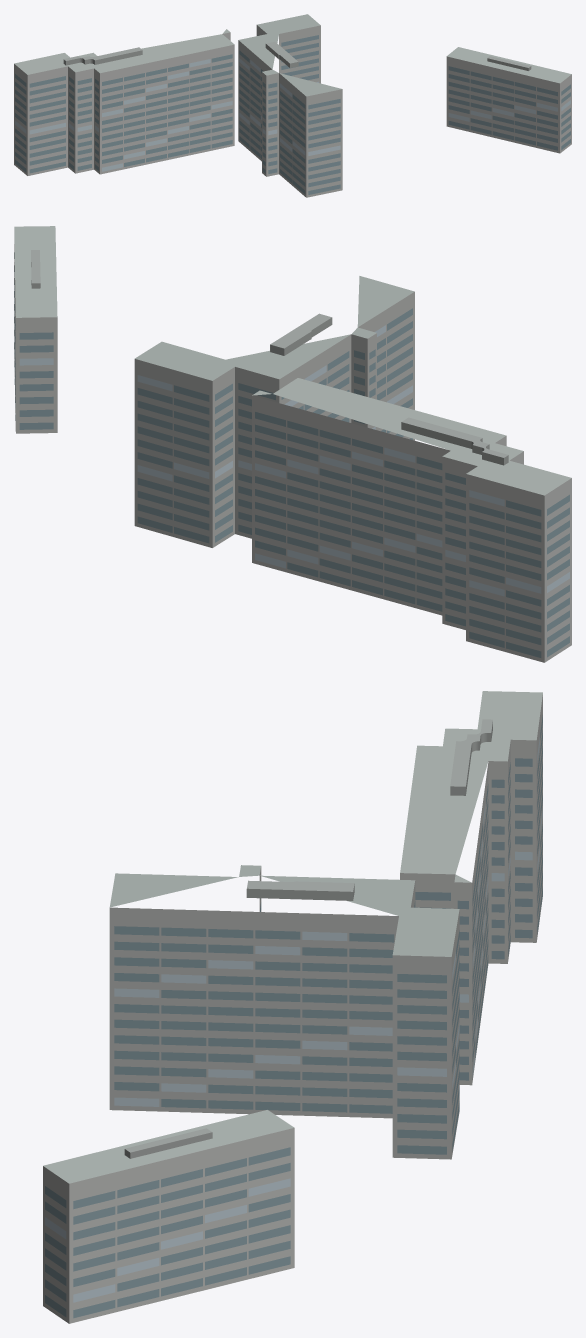
Rendered from apt-a15303103.glb.
3 views of the same model, one above another, from view 1: azimuth 30°, elevation 25°; view 2: azimuth 150°, elevation 25°; view 3: azimuth 270°, elevation 25° (orthographic). The views are drawn at different scales.
Parts seen in each view (by area): view 1: apt-a15303103; view 2: apt-a15303103; view 3: apt-a15303103.
Boxes of the visible parts, left/top/right/bottom form: apt-a15303103: left=14, top=14, right=571, bottom=197; apt-a15303103: left=14, top=226, right=571, bottom=662; apt-a15303103: left=43, top=691, right=542, bottom=1323.
Size of the model in its own units: 181 by 41.43 by 88.77.
